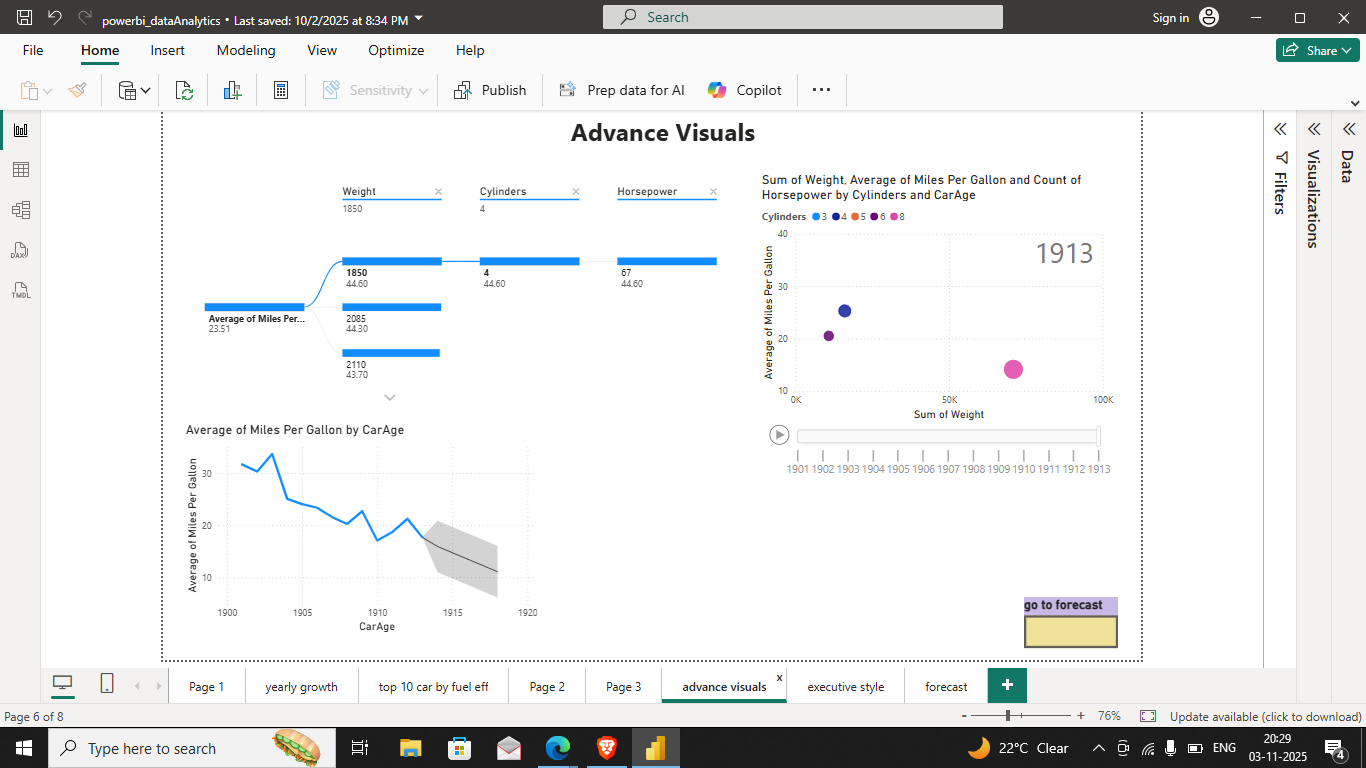

What the dashboard file says about the page in this screenshot:
{"tool":"powerbi","page":{"name":"advance visuals","canvas":[1280,720],"ordinal":5},"visuals":[{"type":"decompositionTreeVisual","fields":{"Analyze":["UCI auto-mpg.Miles Per Gallon"],"ExplainBy":["UCI auto-mpg.Weight","UCI auto-mpg.Cylinders","UCI auto-mpg.Horsepower"]},"box":[25.2,80.6,727.3,327.6],"z":0},{"type":"textbox","box":[40.3,0,1227.9,58.8],"z":1000},{"type":"scatterChart","fields":{"X":["UCI auto-mpg.Weight"],"Y":["UCI auto-mpg.Miles Per Gallon"],"Size":["UCI auto-mpg.Horsepower"],"Series":["UCI auto-mpg.Cylinders"],"Play":["UCI auto-mpg.CarAge"]},"box":[779.4,80.6,470.3,409.9],"z":2000},{"type":"lineChart","fields":{"Category":["UCI auto-mpg.CarAge"],"Y":["UCI auto-mpg.Miles Per Gallon"]},"box":[25.2,408.2,470.3,280.5],"z":3000},{"type":"actionButton","title":"go to forecast","box":[1126.8,637.4,123.2,66.9],"z":4000}]}

Visuals, with their boxes on the page's 1280x720 design canvas (x1, y1, x2, y2). These are canvas units, not pixel positions in the 1366x768 screenshot, which may show the page scaled, cropped or inside an application window:
decompositionTreeVisual - UCI auto-mpg.Miles Per Gallon x UCI auto-mpg.Weight: bbox=[25, 81, 752, 408]
textbox: bbox=[40, 0, 1268, 59]
scatterChart - UCI auto-mpg.Weight x UCI auto-mpg.Miles Per Gallon: bbox=[779, 81, 1250, 490]
lineChart - UCI auto-mpg.CarAge x UCI auto-mpg.Miles Per Gallon: bbox=[25, 408, 496, 689]
"go to forecast" actionButton: bbox=[1127, 637, 1250, 704]
